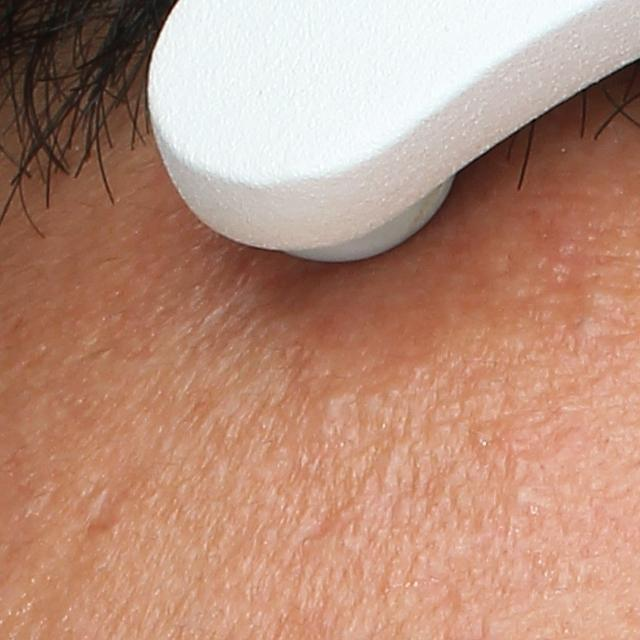atrophic_scar: (85, 483, 127, 537)
comedo: (320, 385, 354, 425), (507, 479, 543, 513), (572, 316, 606, 344)
